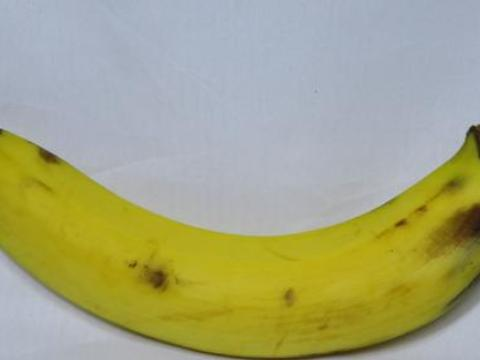freshripe: (0, 104, 479, 359)
